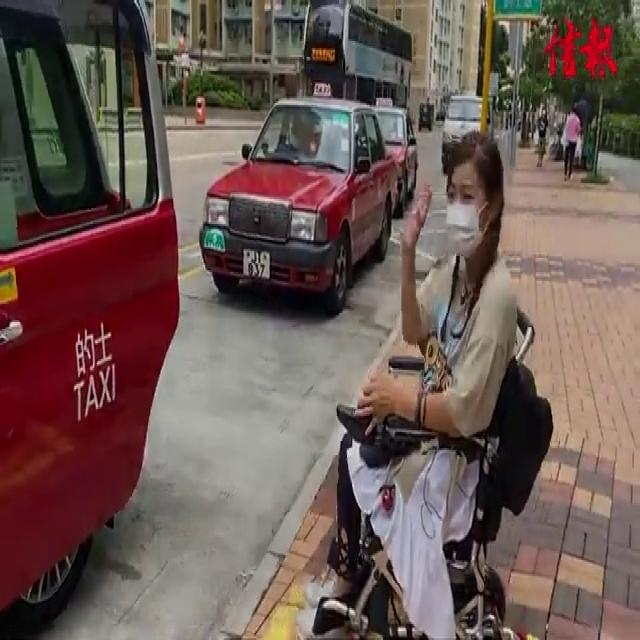wheelchairs: (298, 282, 559, 640)
